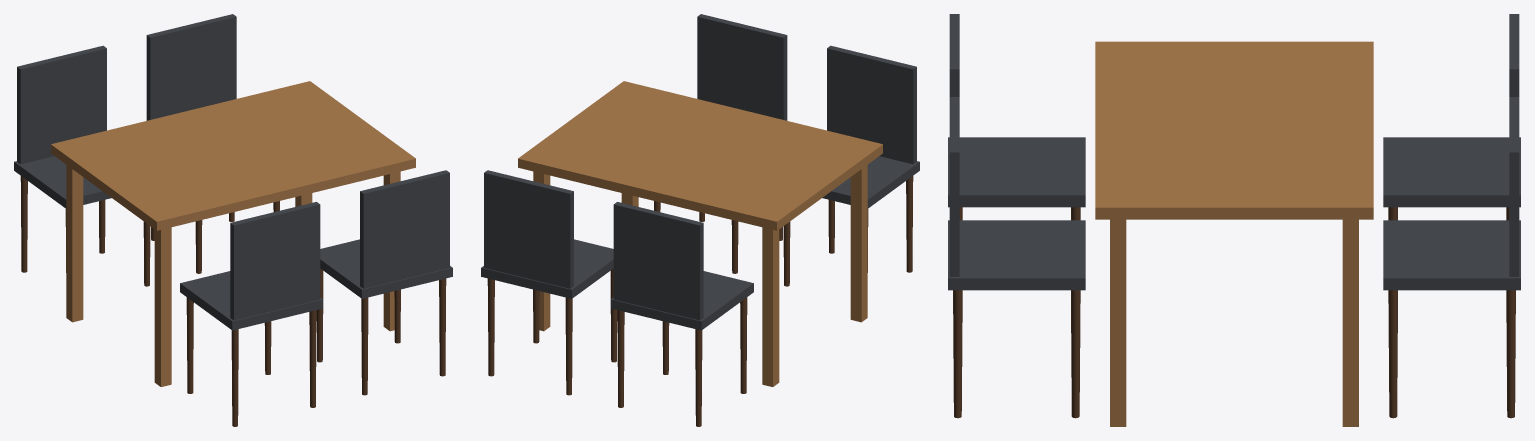
Rendered from dining_table_4.glb.
3 views of the same model, side by side, from view 1: azimuth 30°, elevation 25°; view 2: azimuth 150°, elevation 25°; view 3: azimuth 270°, elevation 25° (orthographic). The views are drawn at different scales.
Bounding box in the file's own units: 1.2 × 0.9 × 1.75.
